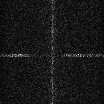wifi: (1, 53, 104, 57)
